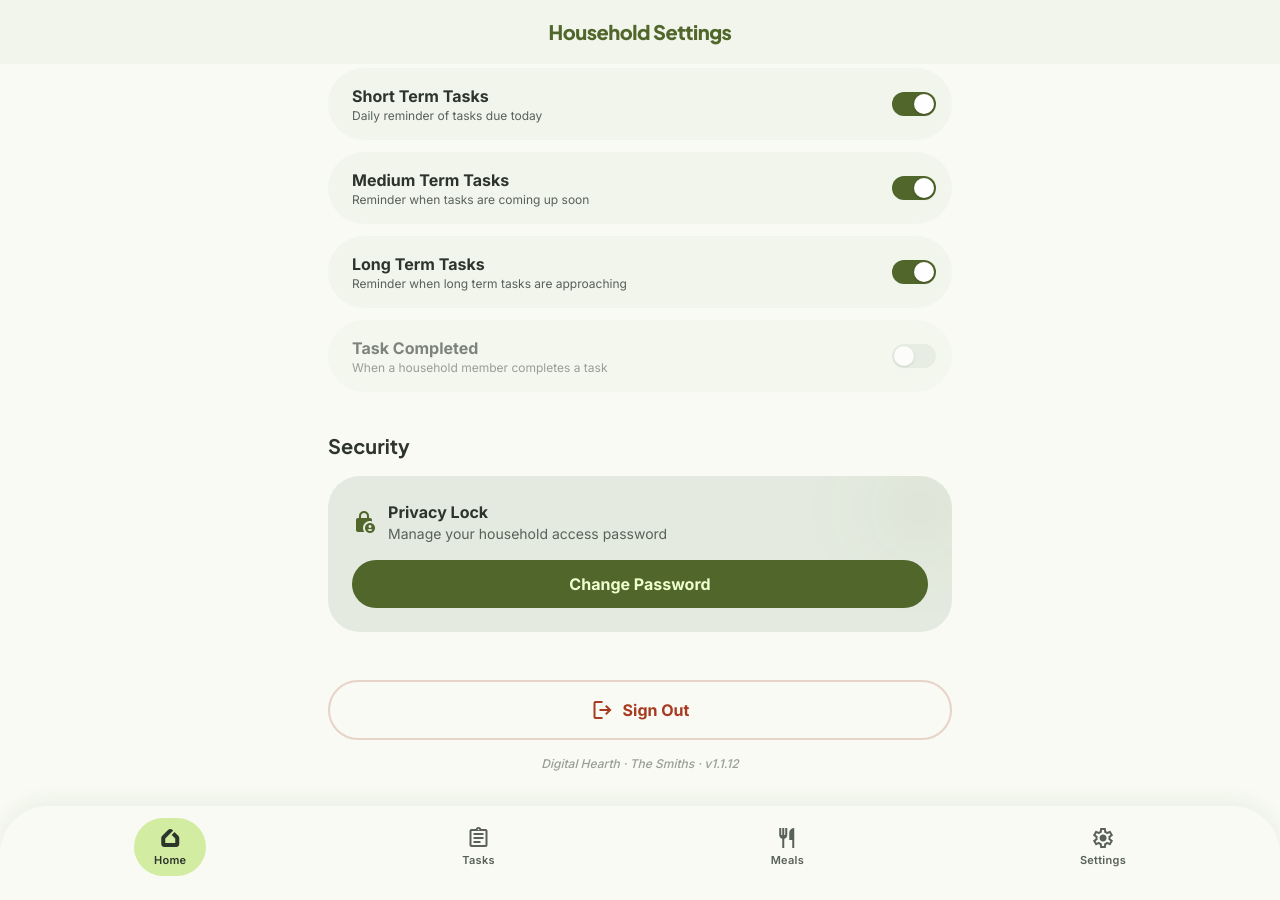
Test: Settings › shows an error when new passwords do not match
(page scrolled)
Click the button "Change Password": (640, 584) top-left (352, 560), bottom-right (928, 608)
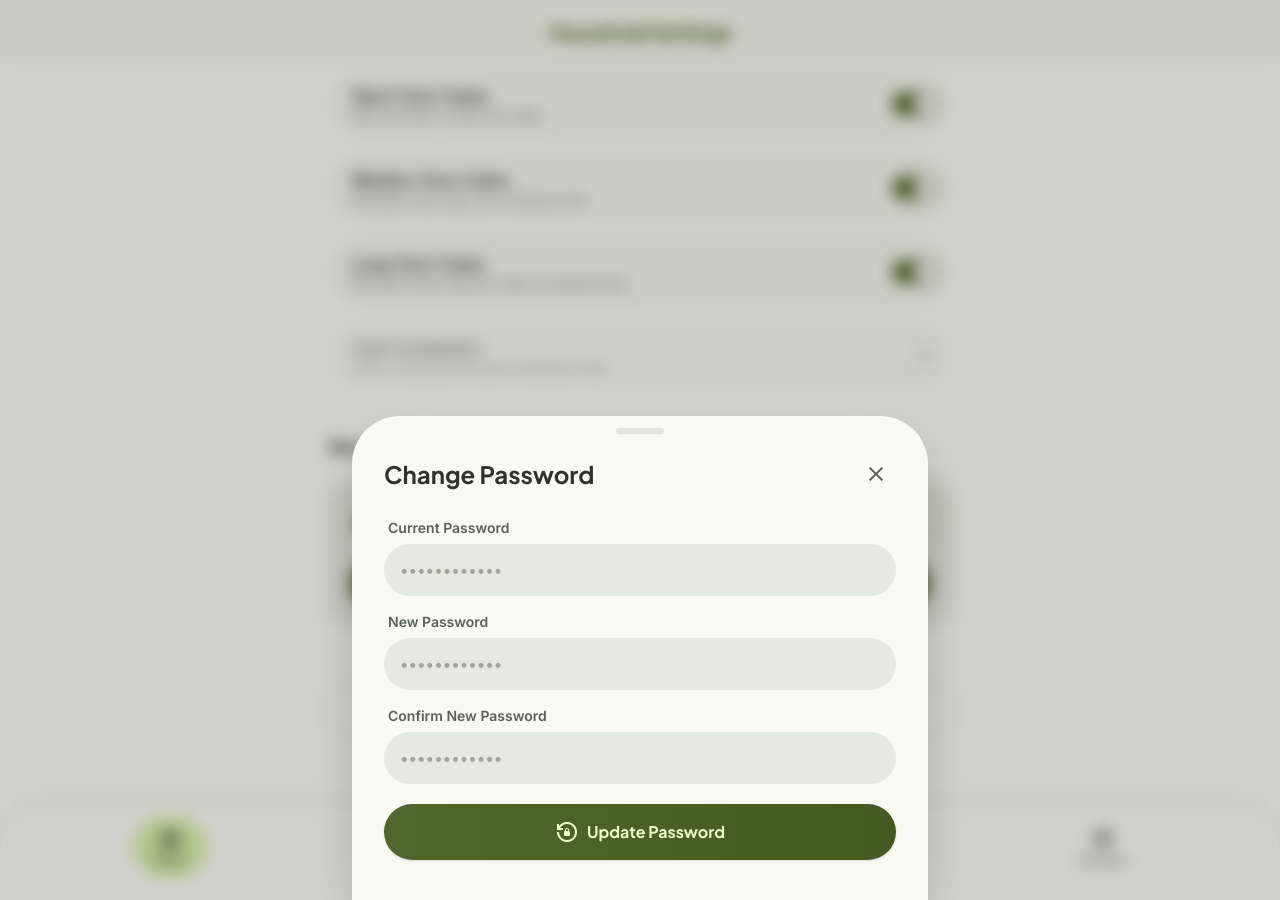
In the password field labelled "Current Password": (640, 570) top-left (384, 544), bottom-right (896, 596), type "OldPass1!abc"
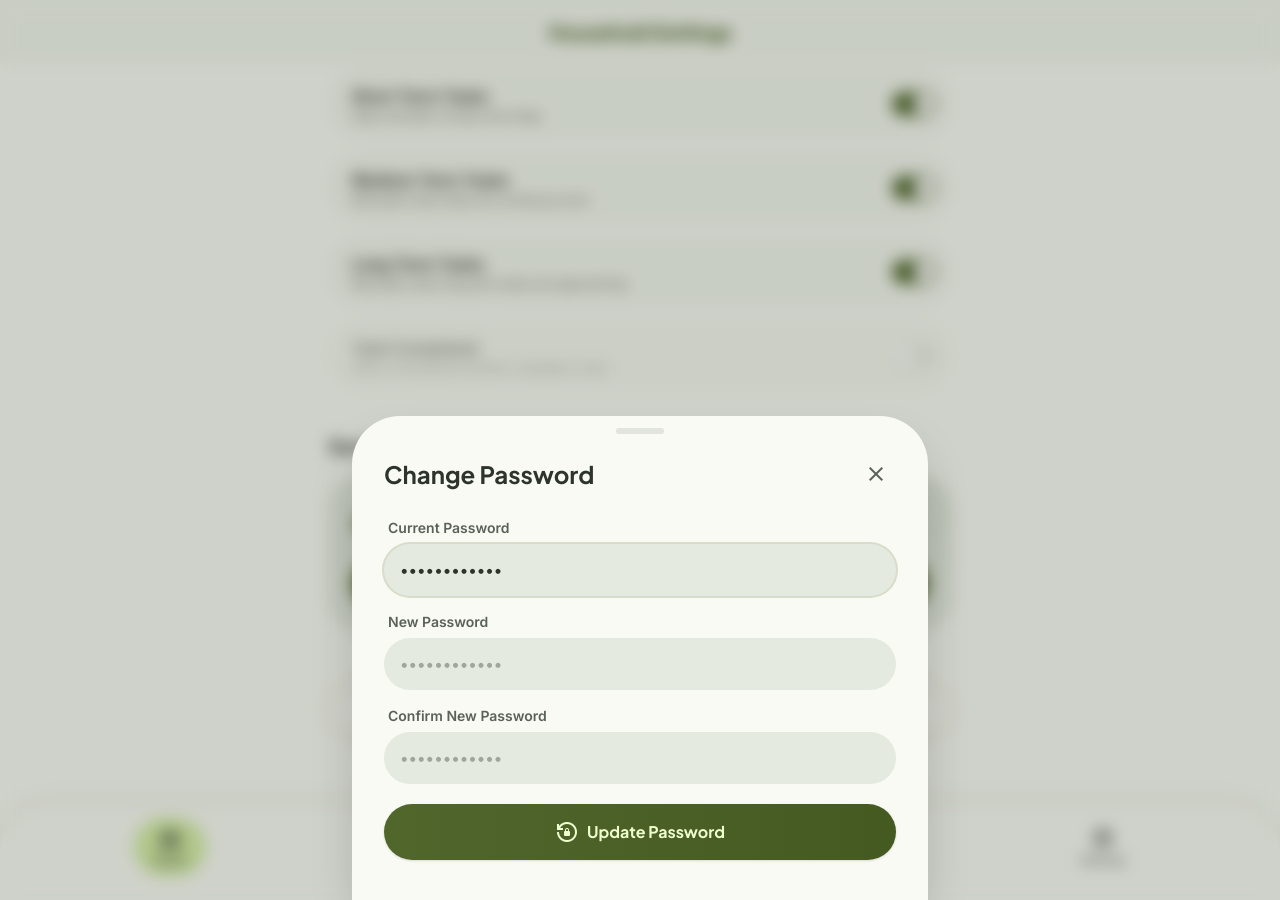
In the password field labelled "New Password": (640, 664) top-left (384, 638), bottom-right (896, 690), type "NewPass1!abc"
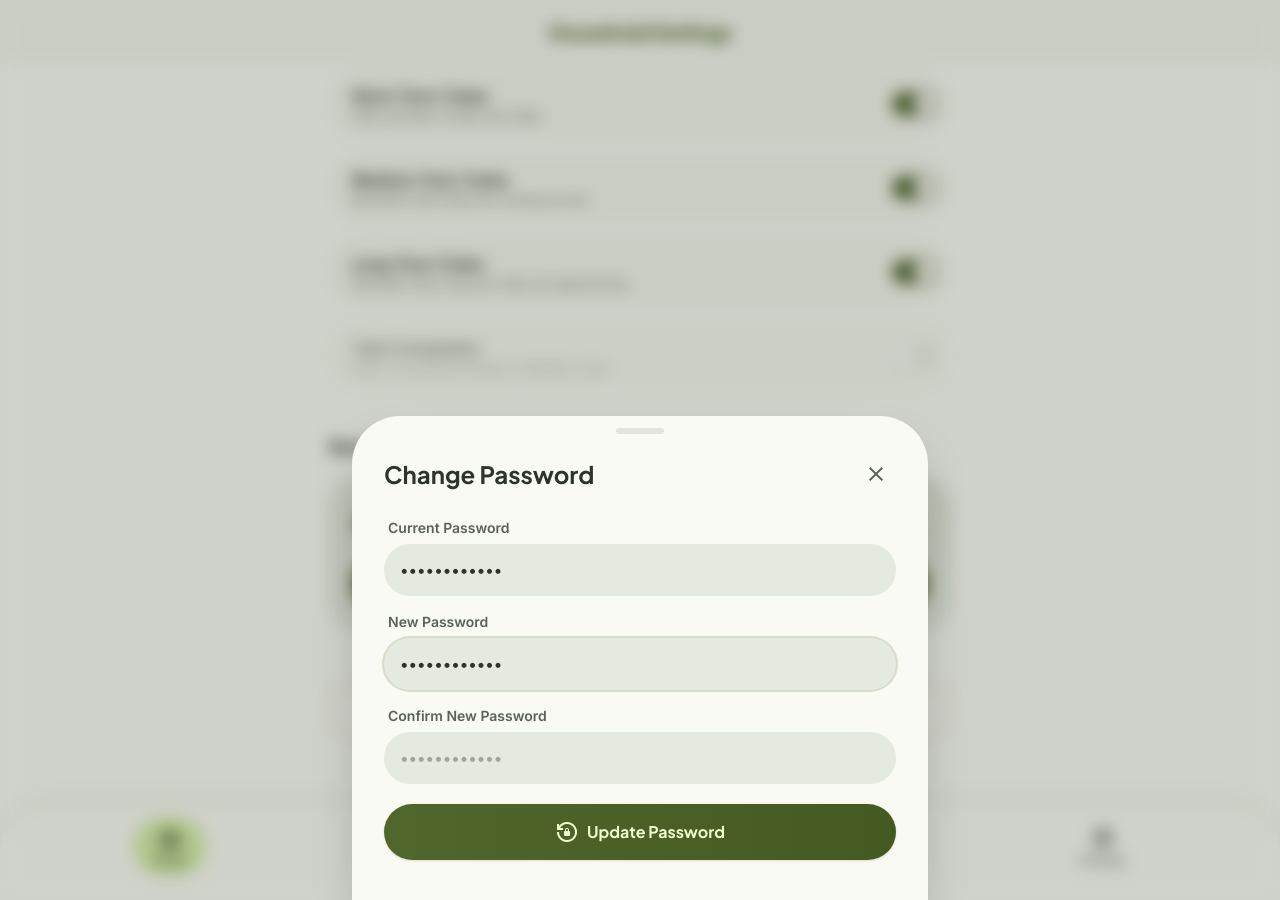
In the password field labelled "Confirm New Password": (640, 758) top-left (384, 732), bottom-right (896, 784), type "DiffPass1!abc"
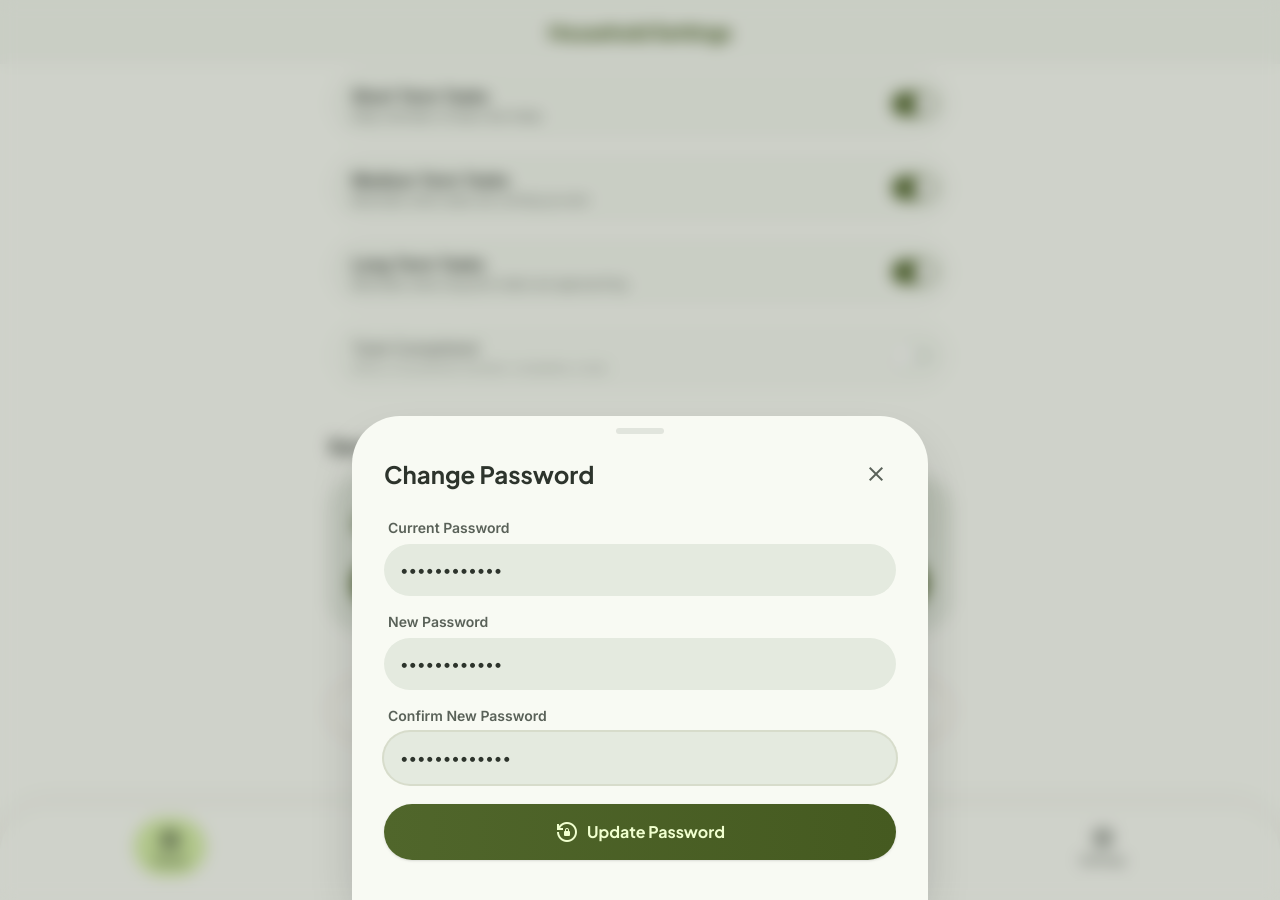
Click the button "Update Password": (640, 832) top-left (384, 804), bottom-right (896, 860)
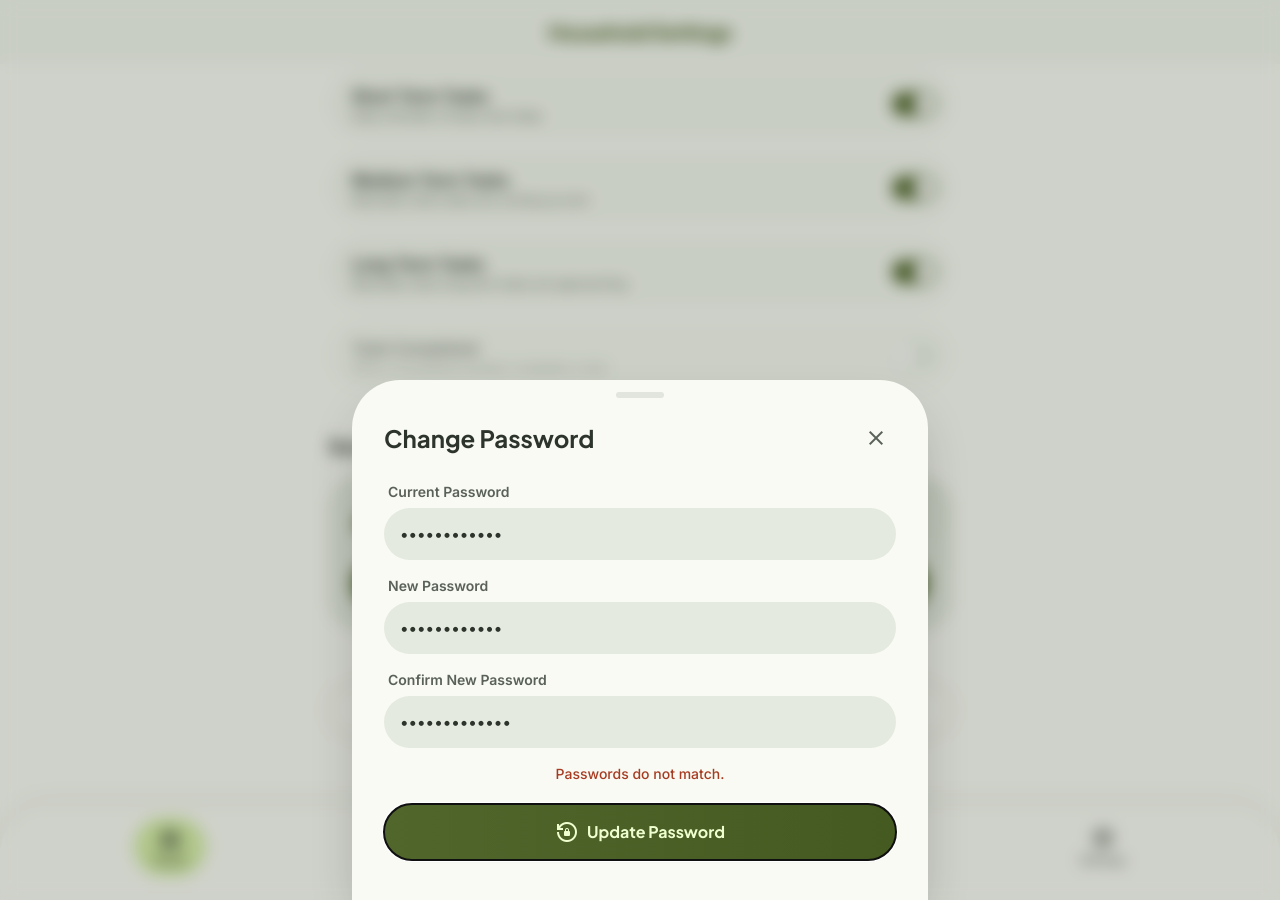
Check: the text "Passwords do not match." is shown, box top-left (556, 765), bottom-right (724, 782)
